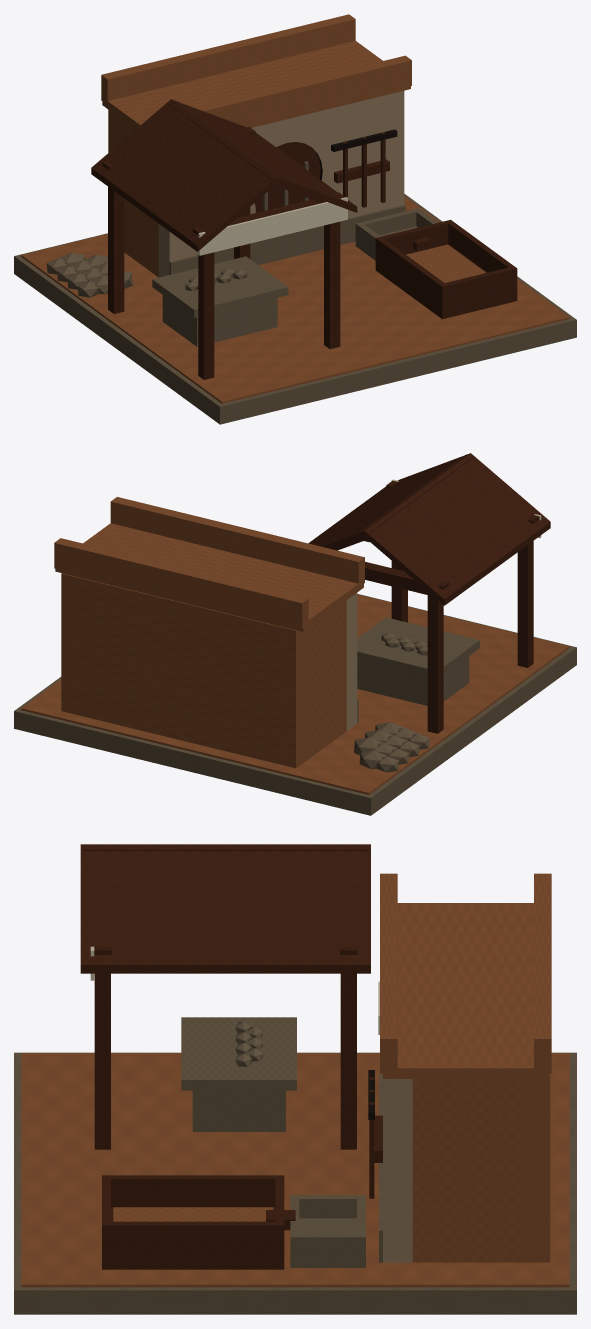
Rendered from Berber_Mining_Age2.fbx.
3 views of the same model, one above another, from view 1: azimuth 30°, elevation 25°; view 2: azimuth 150°, elevation 25°; view 3: azimuth 270°, elevation 25° (orthographic). The views are drawn at different scales.
Parts seen in each view (by area): view 1: courtyard_floor, timber_shelter_roof, courtyard_foundation, store_front, washing_trough, store_roof, store_parapet.001, store_parapet, sorting_slab, timber_shelter_roof.001, store_plinth, owner_valance (+10 smaller); view 2: store_backwall, courtyard_floor, timber_shelter_roof, courtyard_foundation, store_roof, store_parapet.001, store_parapet, store_sidewall, sorting_slab, timber_shelter_roof.001, sorting_plinth, shelter_post.001 (+4 smaller); view 3: courtyard_floor, timber_shelter_roof.001, store_roof, courtyard_foundation, store_sidewall.001, washing_trough, sorting_slab, store_backwall, store_front, settling_basin, sorting_plinth, store_parapet (+4 smaller).
Boxes of the visible parts, x1,y1,x2,y2 form: courtyard_floor: (21, 196, 569, 403); timber_shelter_roof: (91, 99, 277, 251); courtyard_foundation: (14, 194, 576, 424); store_front: (158, 91, 404, 277); washing_trough: (375, 219, 517, 319); store_roof: (102, 40, 410, 129); store_parapet.001: (101, 14, 355, 104); store_parapet: (193, 55, 411, 126); sorting_slab: (152, 256, 288, 317); timber_shelter_roof.001: (171, 99, 357, 212); store_plinth: (169, 204, 405, 274); owner_valance: (198, 197, 347, 255); store_backwall: (61, 573, 307, 768); courtyard_floor: (21, 594, 569, 794); timber_shelter_roof: (364, 453, 550, 605); courtyard_foundation: (14, 594, 576, 815); store_roof: (55, 523, 363, 631); store_parapet.001: (54, 538, 308, 628); store_parapet: (110, 497, 364, 585); store_sidewall: (308, 600, 346, 759); sorting_slab: (357, 617, 479, 676); timber_shelter_roof.001: (308, 453, 469, 549); sorting_plinth: (357, 656, 469, 705); shelter_post.001: (427, 595, 443, 733); courtyard_floor: (21, 1053, 569, 1287); timber_shelter_roof.001: (80, 844, 370, 973); store_roof: (383, 903, 548, 1078); courtyard_foundation: (14, 1052, 576, 1314); store_sidewall.001: (412, 1079, 517, 1262); washing_trough: (102, 1175, 284, 1269); sorting_slab: (181, 1017, 296, 1090); store_backwall: (517, 1073, 550, 1262); store_front: (383, 1079, 412, 1262); settling_basin: (290, 1195, 365, 1267); sorting_plinth: (192, 1090, 285, 1131); store_parapet: (380, 873, 397, 1073).
Bounding box in the file's own units: 380 × 214 × 380.
5 materials, 5 textured.
